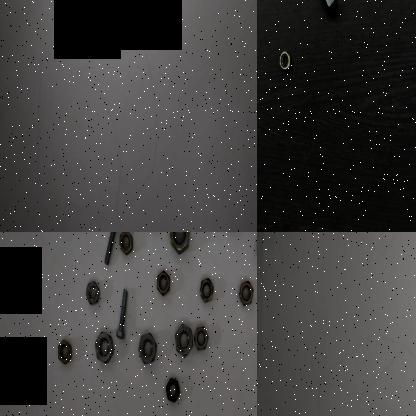Bolts: (115, 289, 131, 343), (103, 232, 121, 264)
NUTS: (173, 320, 194, 358), (137, 330, 159, 366), (92, 330, 115, 362), (166, 232, 193, 255), (238, 280, 256, 310), (56, 336, 74, 366), (84, 280, 104, 307), (164, 376, 182, 404), (198, 275, 214, 306), (195, 322, 210, 353), (277, 50, 293, 78), (156, 268, 172, 296), (316, 0, 340, 18), (119, 232, 134, 258)
